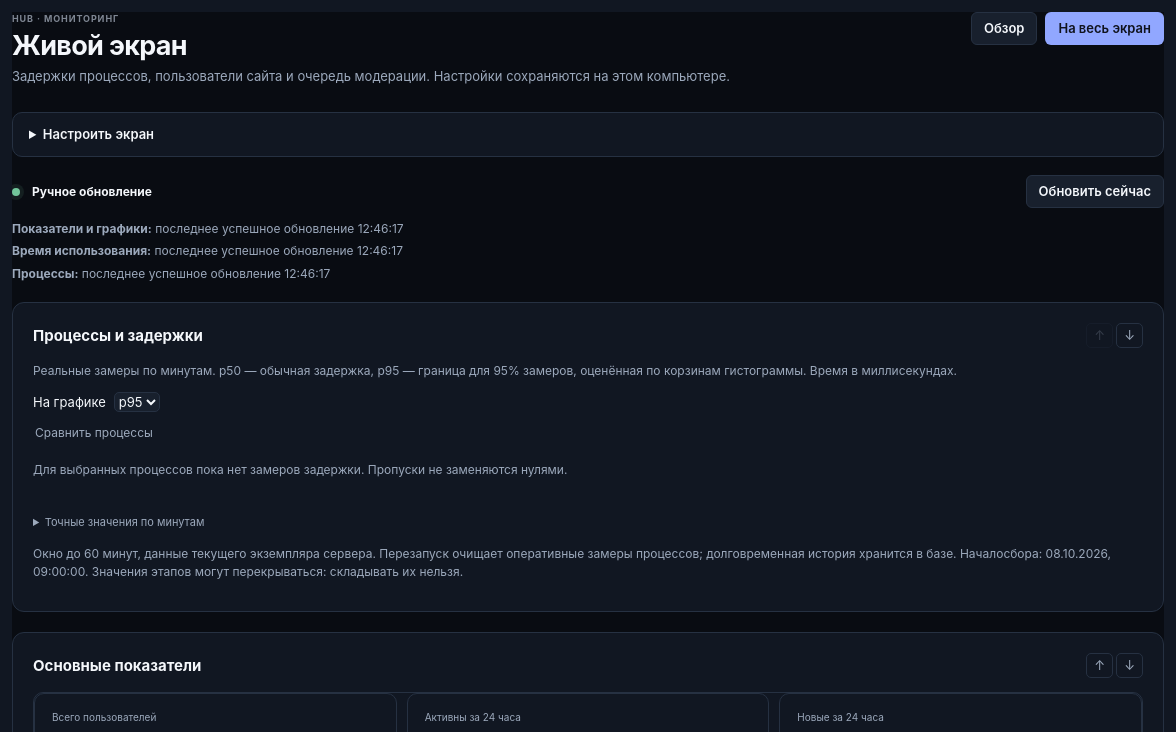
independent monitoring snapshots › keeps last-good usage on failure while dashboard refreshes and recovers
The width and height of the screenshot is (1176, 732).
Click the button "Обновить сейчас". click: {"x": 1095, "y": 192}
box: [1026,175,1164,208]
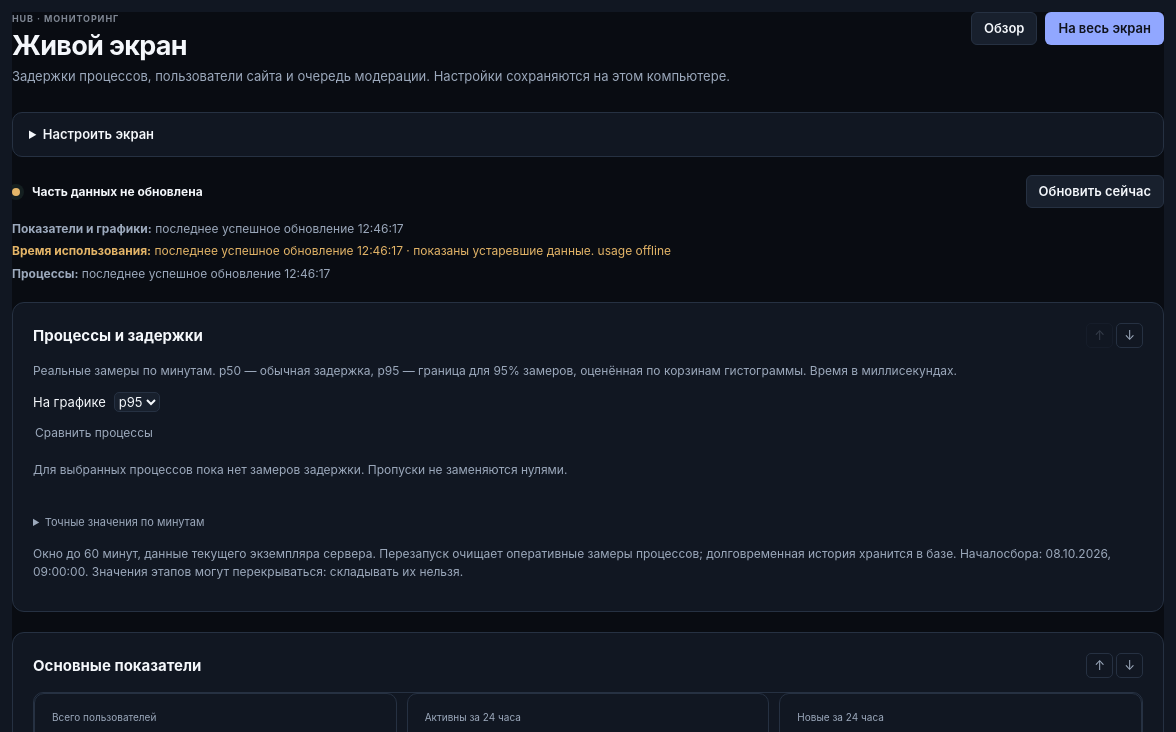
Expected: the text "Часть данных не обновлена" is shown, [32,183,203,200]
Click the button "Обновить сейчас". click: {"x": 1095, "y": 192}
box: [1026,175,1164,208]
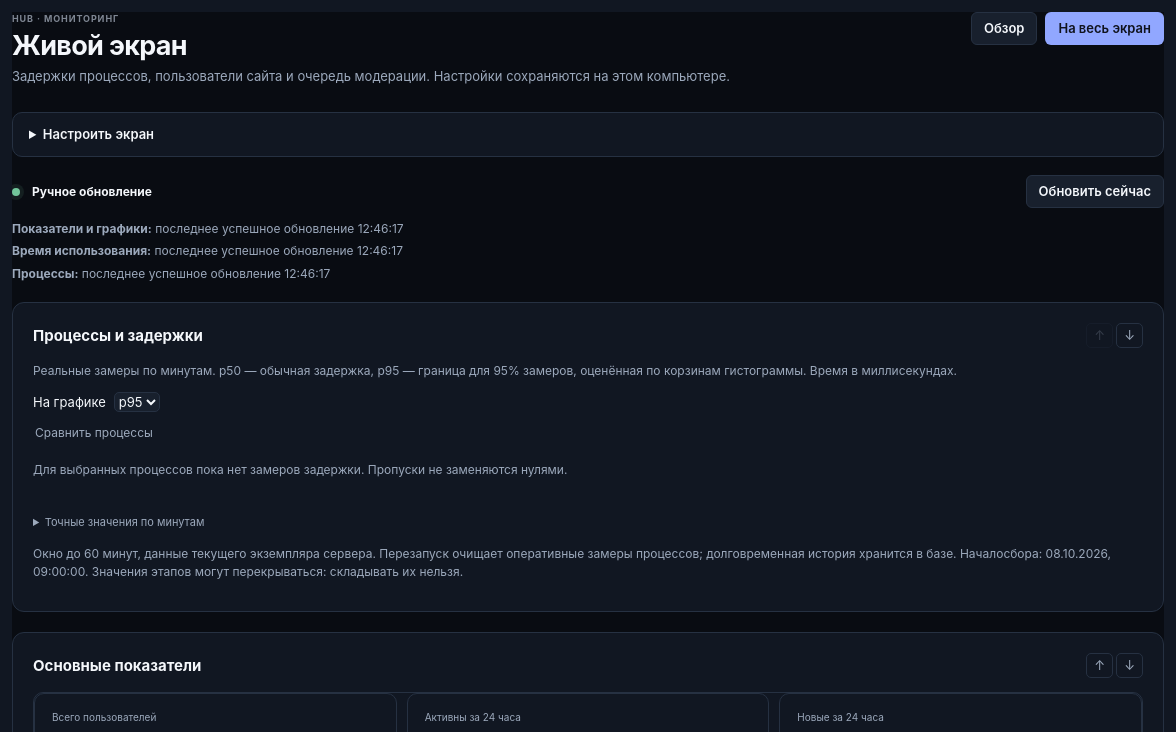
Expected: the text "Часть данных не обновлена" is gone
